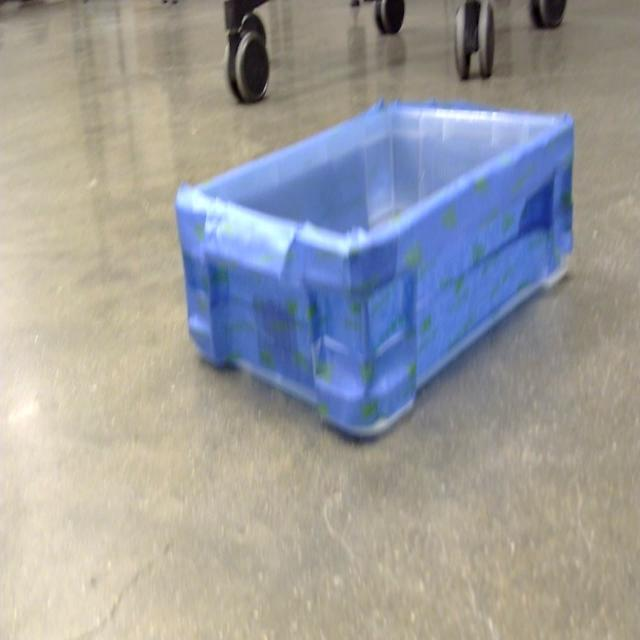bucket: (174, 100, 576, 444)
